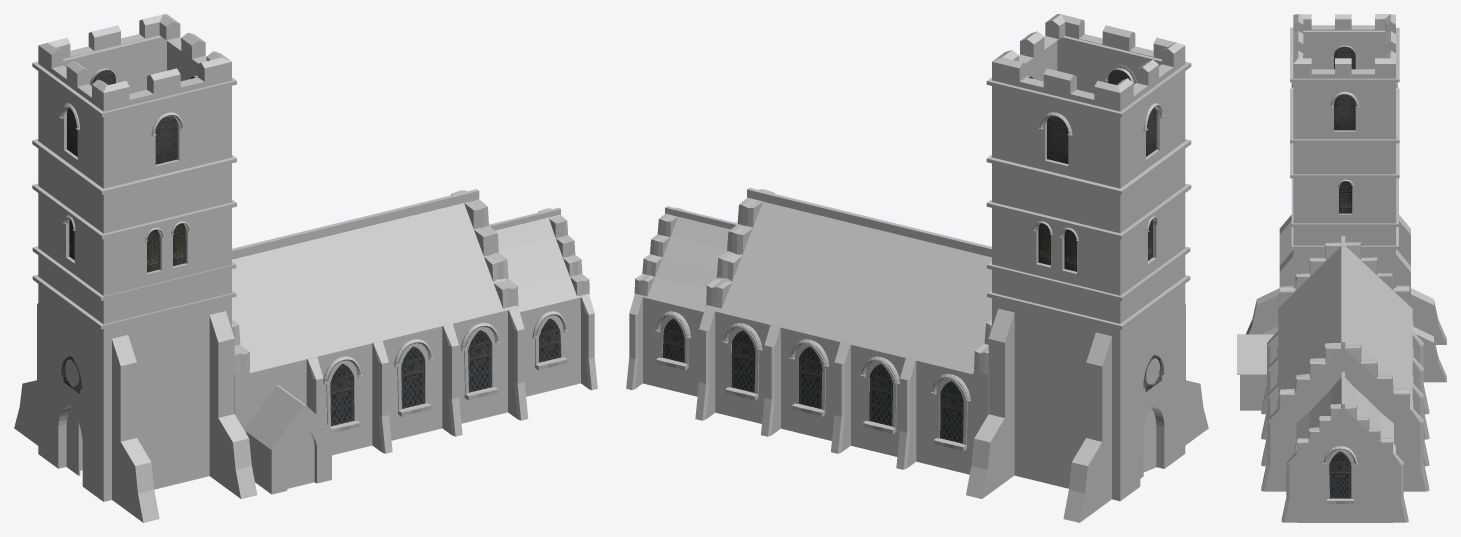
Rendered from church.fbx.
3 renders of one model, left to right at view 1: azimuth 30°, elevation 25°; view 2: azimuth 150°, elevation 25°; view 3: azimuth 270°, elevation 25°, orthographic. The views are drawn at different scales.
Parts seen in each view (by area): view 1: church; view 2: church; view 3: church.
Part boxes in pixels (<box>): church: <box>14,14,597,522</box>; church: <box>626,14,1208,522</box>; church: <box>1237,14,1446,522</box>.
Bounding box in the file's own units: 22.7 × 18.02 × 10.54.
